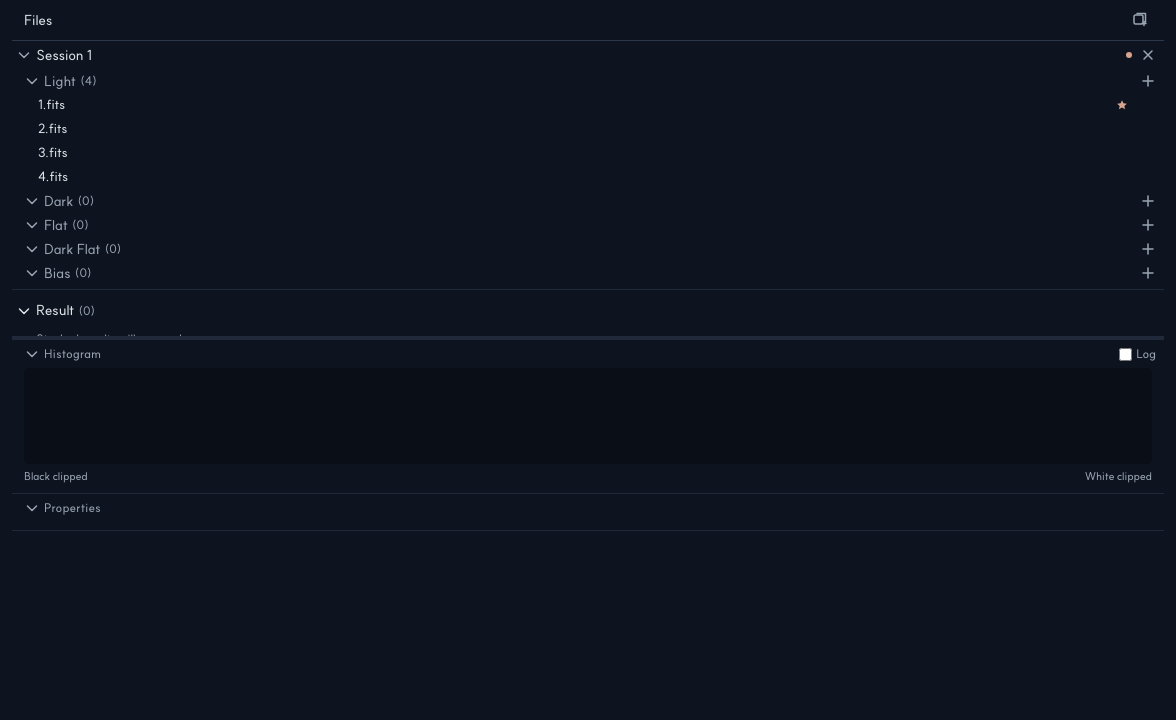
Test: sessions › renames a session by double-clicking its name
The width and height of the screenshot is (1176, 720).
Step 1. Double-click the text "Session 1" → [64, 54], box [36, 46, 92, 64]
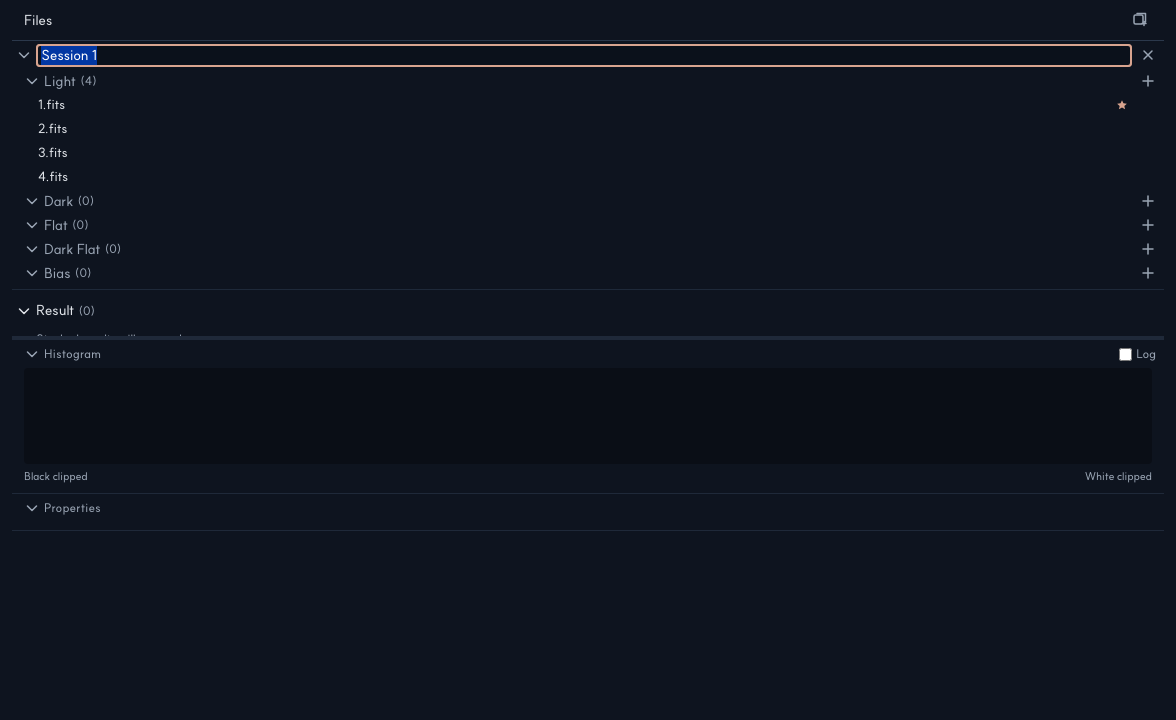
Step 2. Replace the text in the field showing "Session 1" with "  Eagle Nebula " → [584, 55], box [36, 44, 1132, 66]
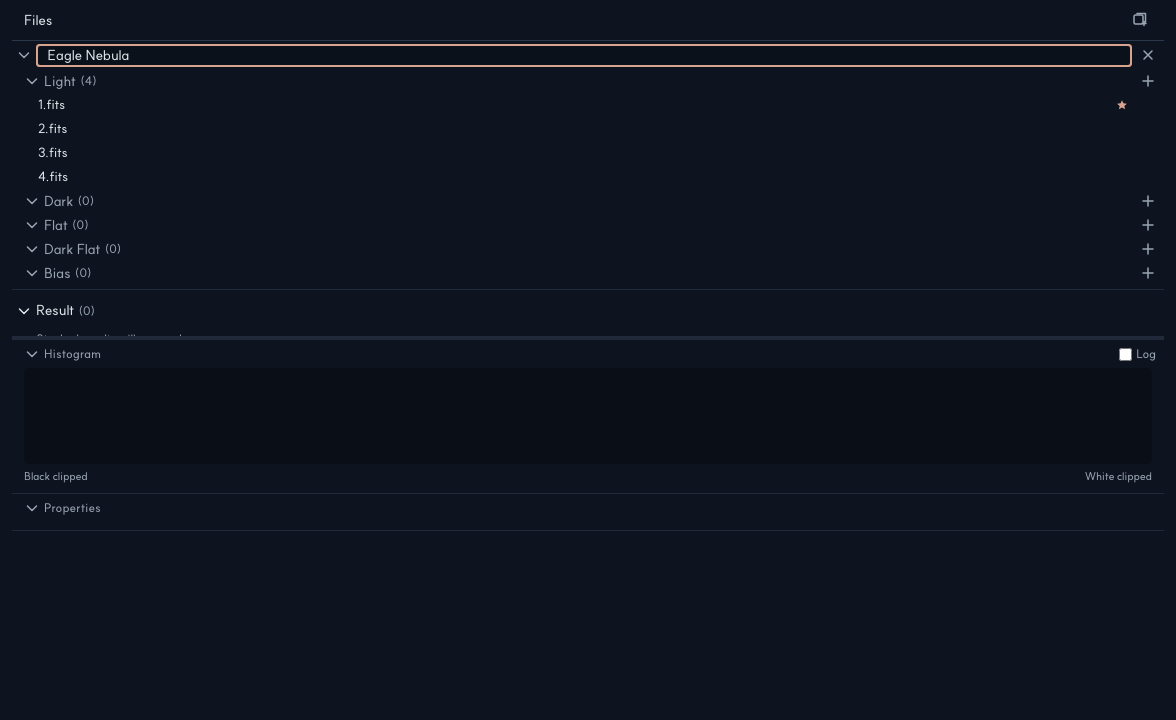
Step 3. Press Enter in the field showing "Session 1", box [36, 44, 1132, 66]
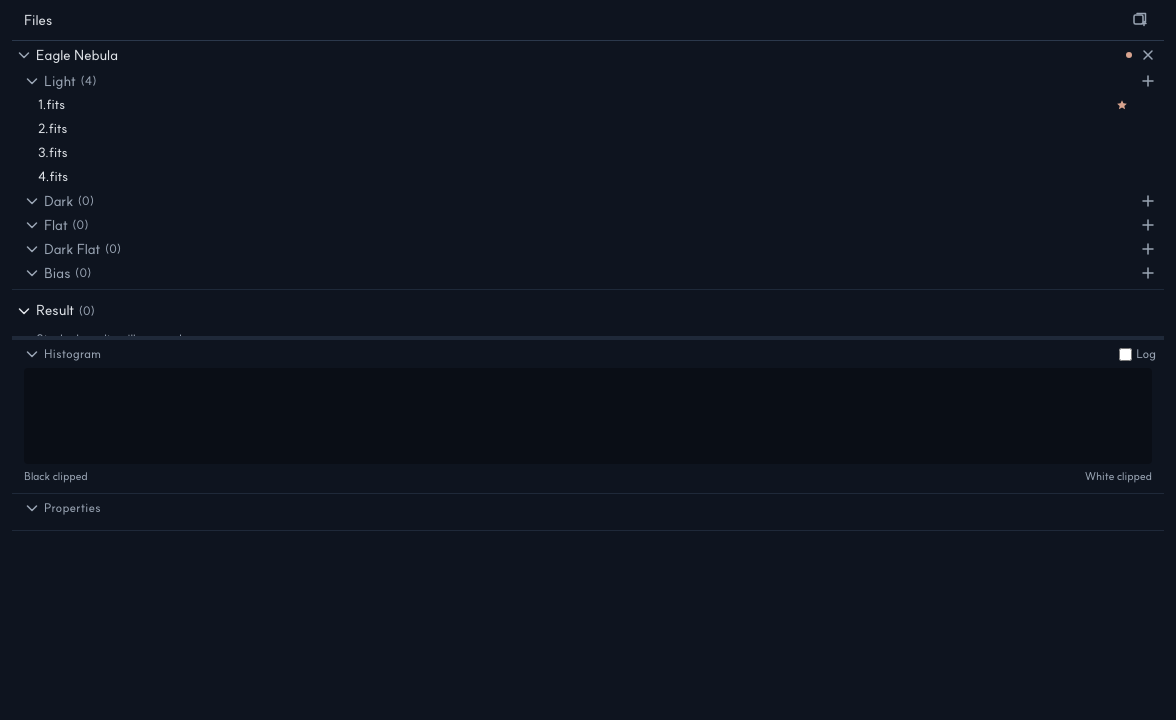
Expected: the text "Eagle Nebula" is shown, [36, 46, 118, 64]
